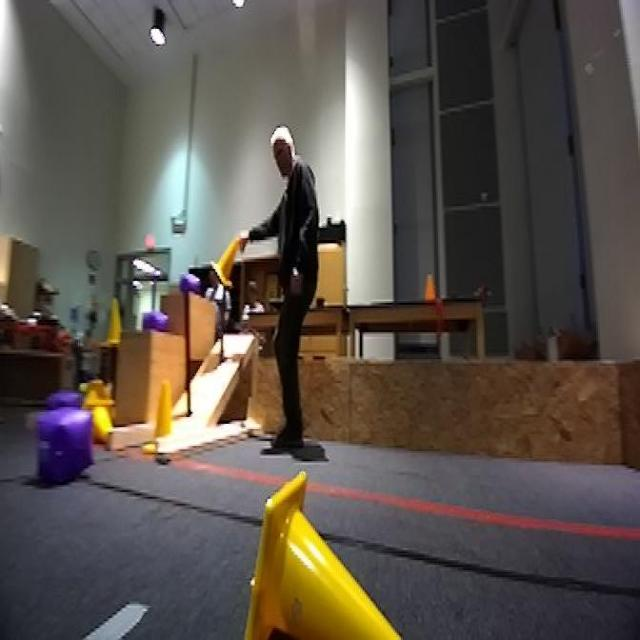frc_cone: (244, 456, 437, 635), (145, 380, 175, 452), (208, 238, 244, 288), (101, 298, 126, 352), (93, 395, 117, 439), (81, 374, 112, 402)
frc_cube: (39, 409, 92, 490), (142, 304, 173, 328), (47, 391, 80, 412), (175, 271, 201, 296)
